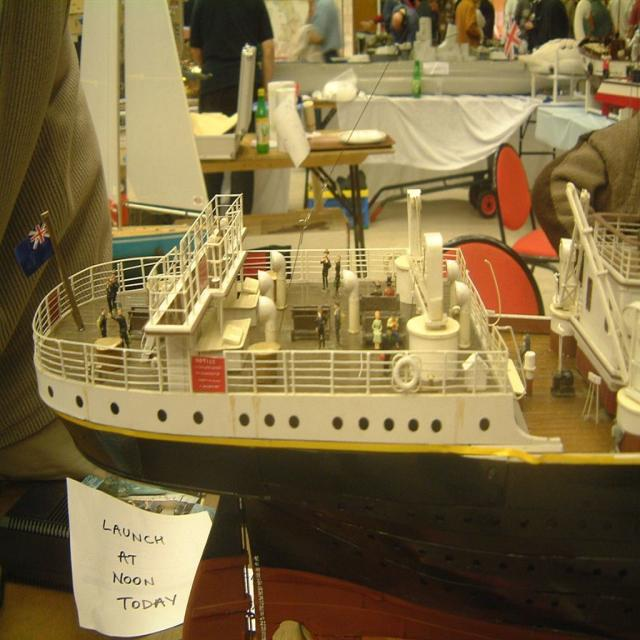Boat: (11, 181, 640, 510)
